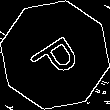P_NE: (24, 26, 86, 84)
